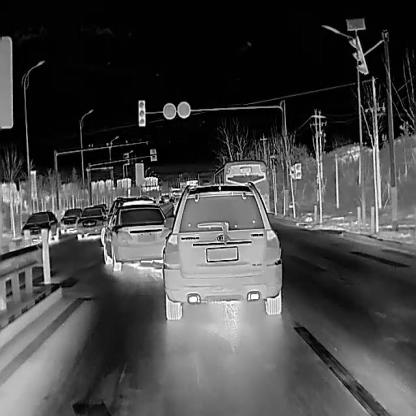bus: (211, 158, 268, 214)
car: (160, 178, 282, 318), (101, 202, 169, 272), (19, 209, 58, 244), (74, 205, 108, 239), (58, 206, 82, 234)
